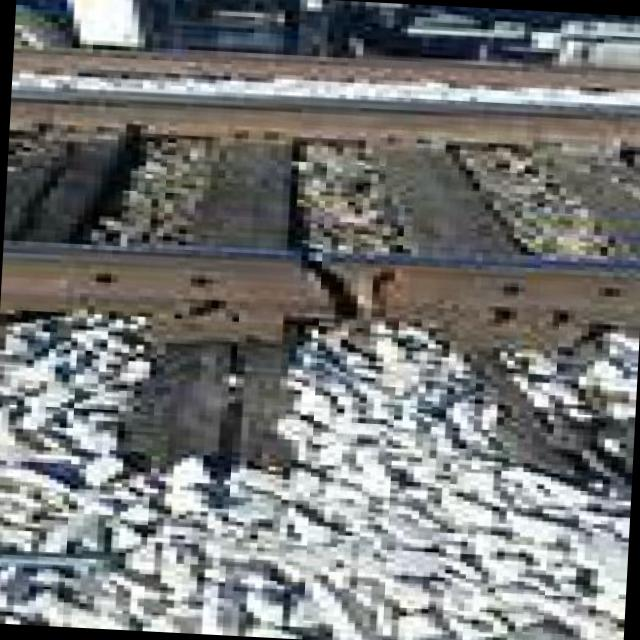defective: (216, 200, 448, 370)
